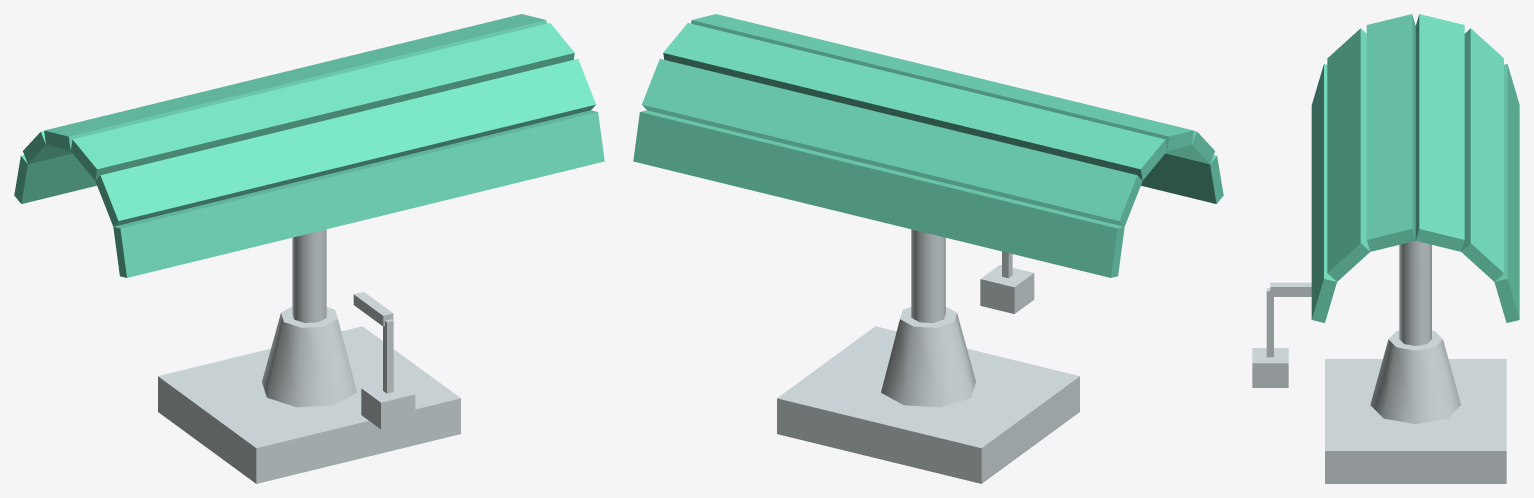
File: lampBanker.glb
The picture shows the model from 3 angles, left to right: view 1: azimuth 30°, elevation 25°; view 2: azimuth 150°, elevation 25°; view 3: azimuth 270°, elevation 25°; orthographic projection. The views are drawn at different scales.
Parts seen in each view (by area): view 1: lampBanker; view 2: lampBanker; view 3: lampBanker.
Boxes of the visible parts, <box> form: lampBanker: <box>14,14,604,483</box>; lampBanker: <box>633,14,1223,483</box>; lampBanker: <box>1252,14,1519,483</box>.
Bounding box in the file's own units: 0.28 × 0.1922 × 0.1472.
